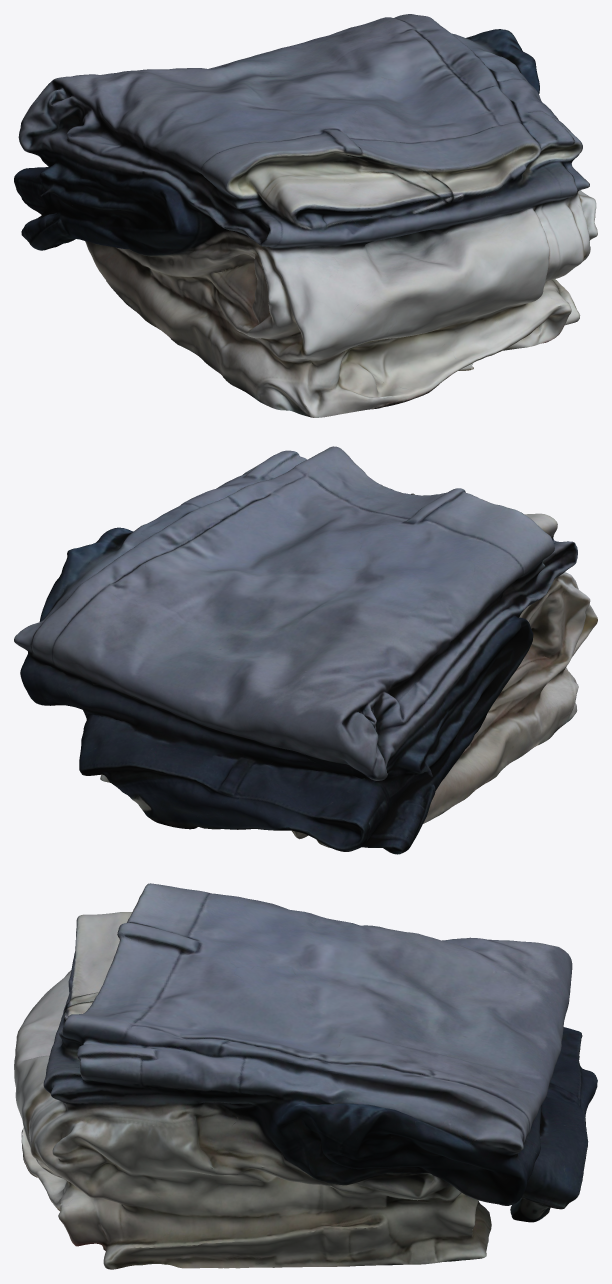
Rendered from PantsCelle.fbx.
3 views of the same model, one above another, from view 1: azimuth 30°, elevation 25°; view 2: azimuth 150°, elevation 25°; view 3: azimuth 270°, elevation 25° (orthographic). The views are drawn at different scales.
Parts seen in each view (by area): view 1: Stack of blue pants; view 2: Stack of blue pants; view 3: Stack of blue pants.
Boxes of the visible parts, x1,y1,x2,y2 form: Stack of blue pants: (14, 14, 597, 417); Stack of blue pants: (14, 446, 597, 854); Stack of blue pants: (14, 883, 597, 1269).
Bounding box in the file's own units: 41.8 × 21.06 × 47.6.
1 material, 1 textured.
